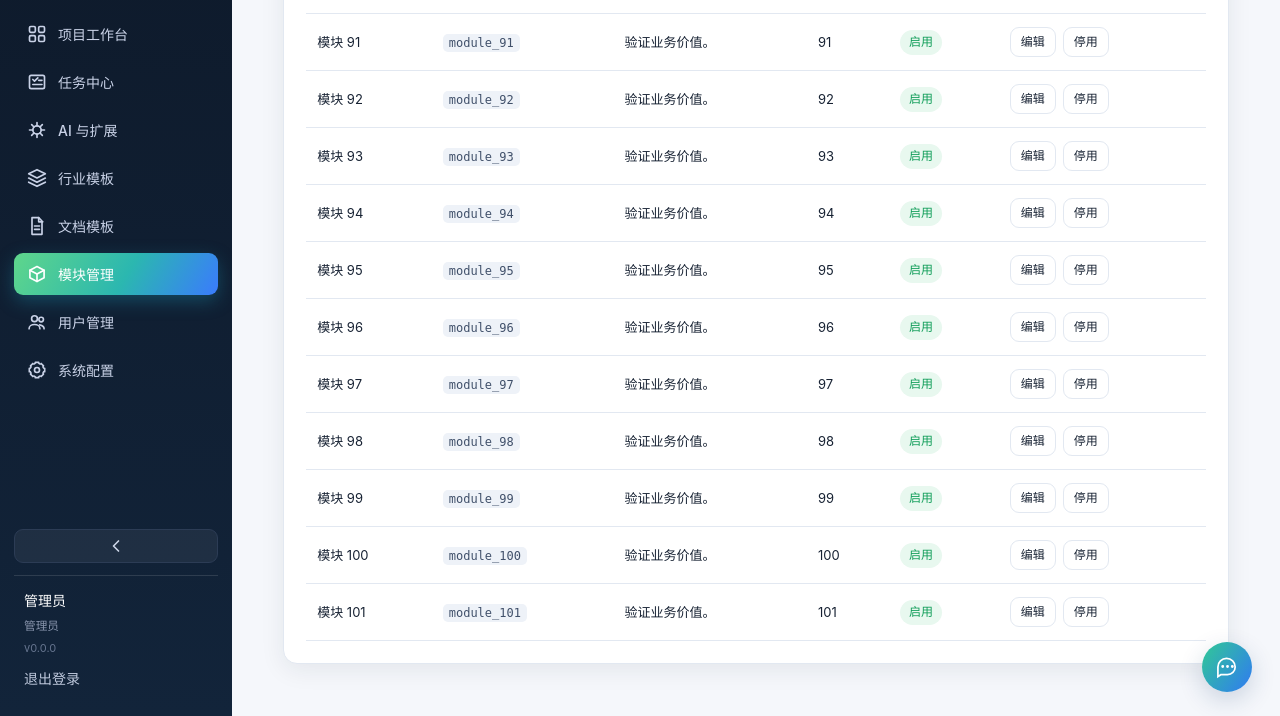
模块目录管理 › 读取 101 个模块的所有分页并可管理第 101 条
(page scrolled)
Step 1. Click the button with aria-label "编辑 模块 101" → click(1033, 612), box top-left (1010, 597), bottom-right (1056, 627)
(page scrolled)
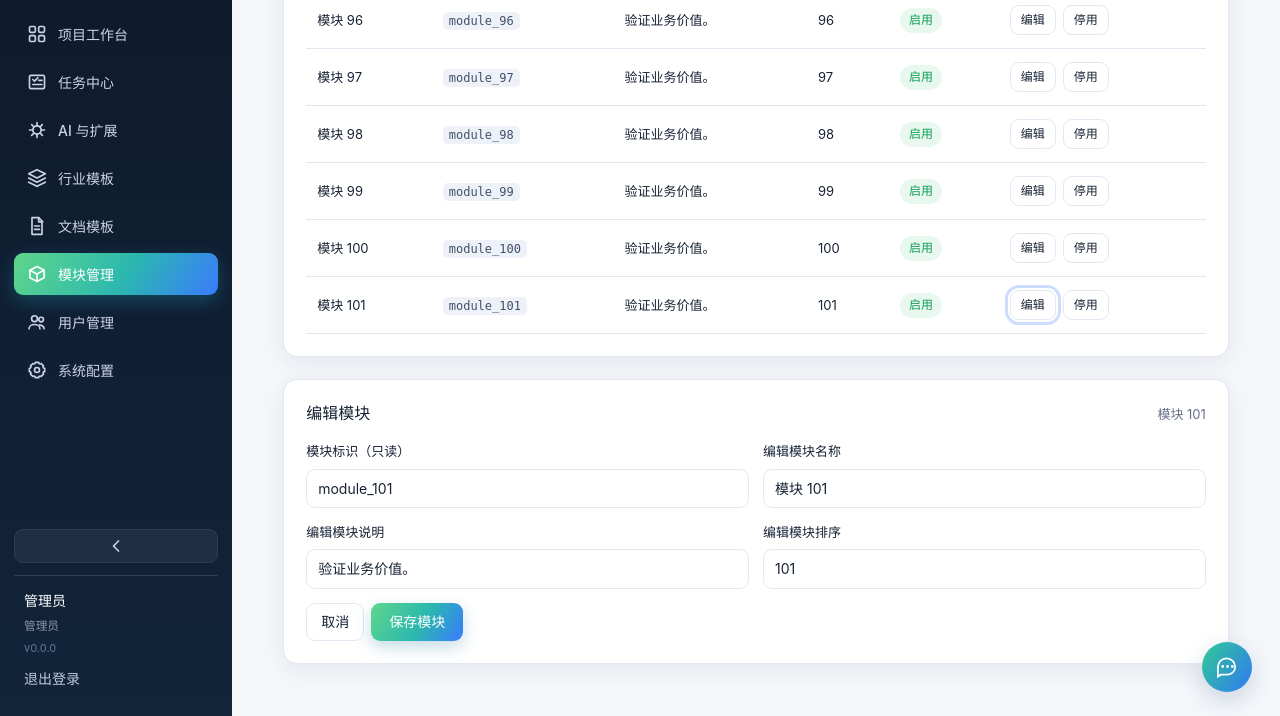
Result: the field labelled "模块标识（只读）" holds "module_101" at top-left (306, 469), bottom-right (749, 508)
